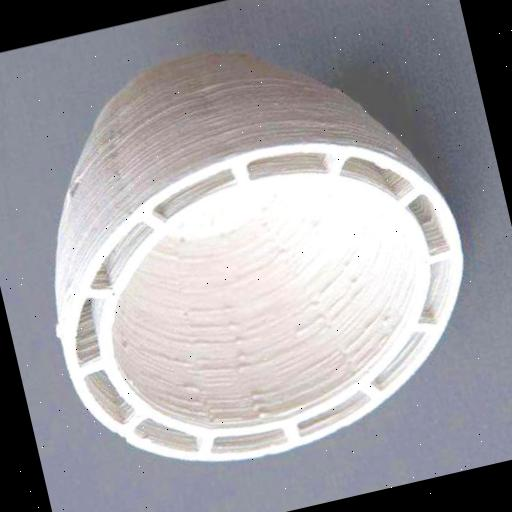blobs: (233, 356, 254, 376), (246, 386, 264, 408), (373, 310, 393, 329), (271, 246, 290, 264), (246, 396, 266, 413), (256, 406, 274, 424), (230, 328, 248, 346), (234, 347, 252, 362), (227, 317, 243, 333)
